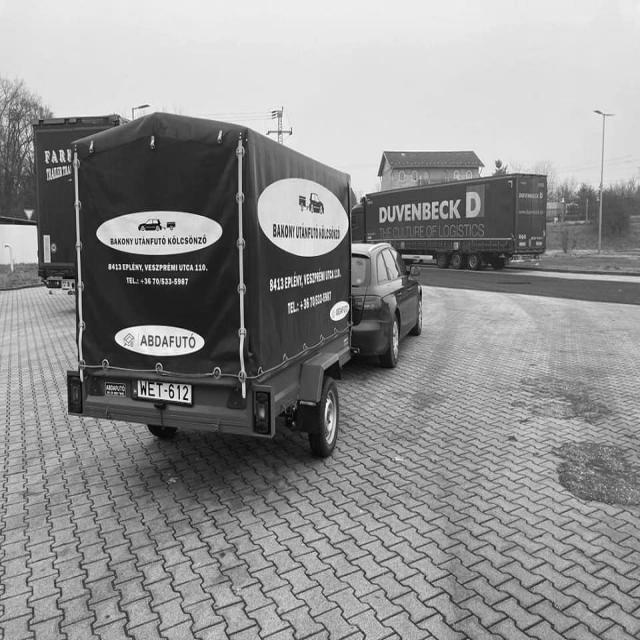Sedan: (350, 242, 422, 369)
Tractor Trailer: (350, 173, 547, 272)
Trailer: (66, 113, 356, 461)
